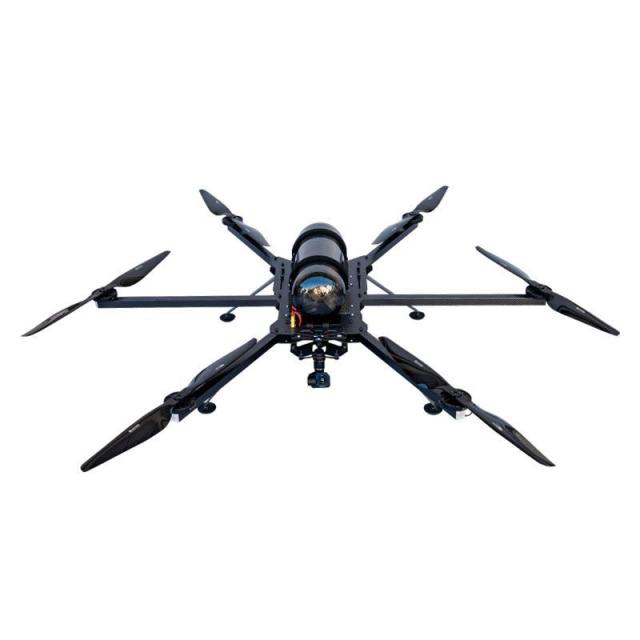drone: (57, 169, 640, 493)
